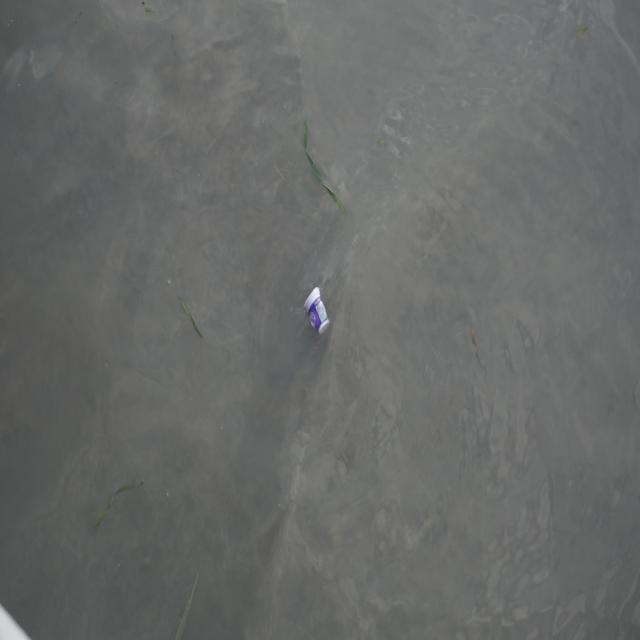Bungkus Minuman: (303, 284, 334, 345)
